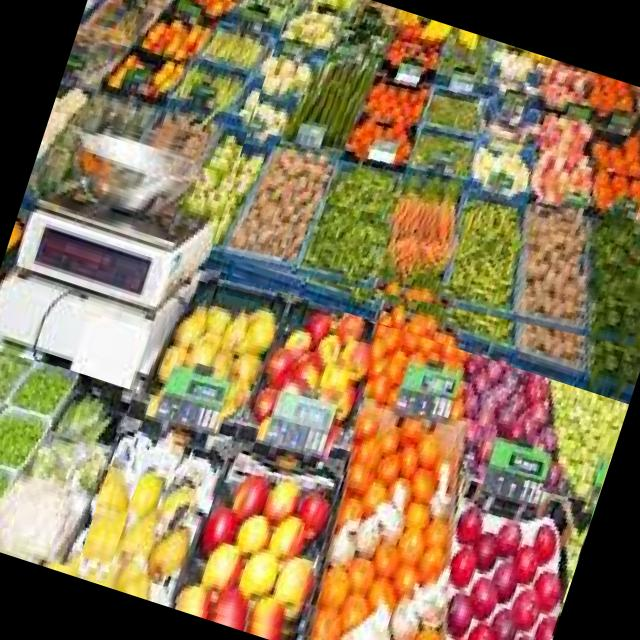Organic: (103, 267, 629, 640), (209, 0, 640, 395), (51, 0, 295, 172), (0, 342, 134, 576), (80, 428, 153, 584)
